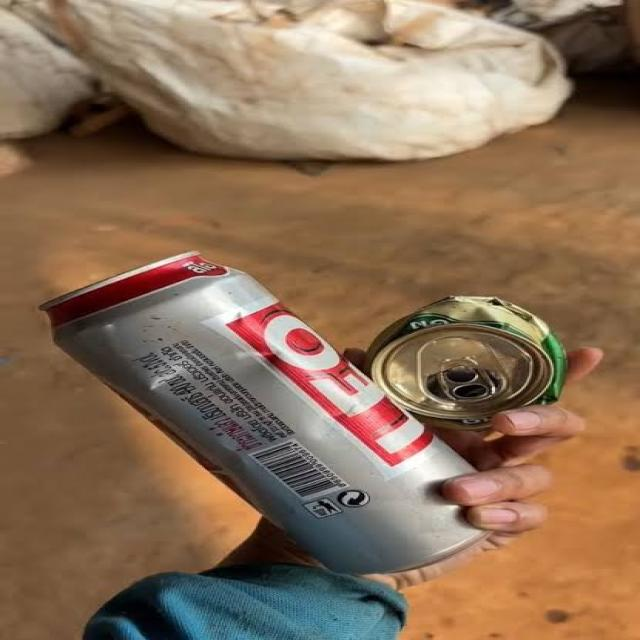can: (0, 240, 529, 592)
